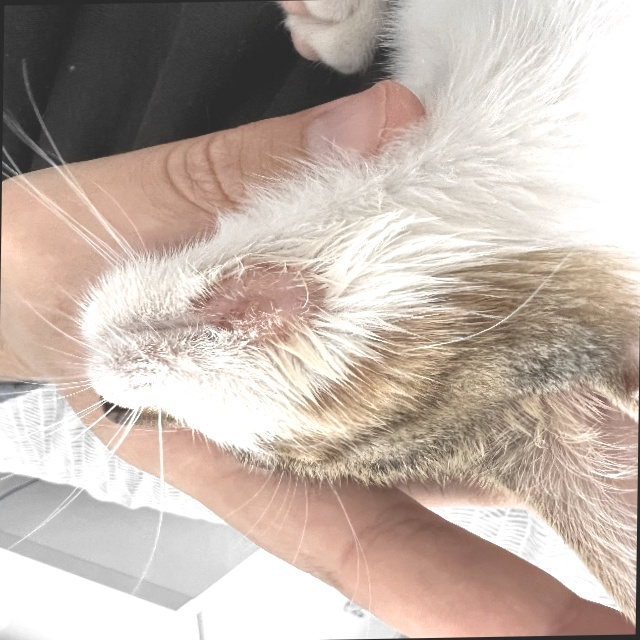ringworm: (209, 258, 337, 344)
